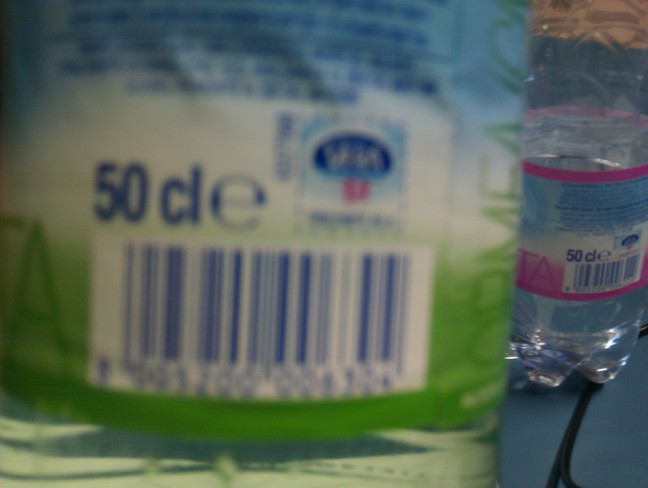detection: (88, 237, 431, 403)
